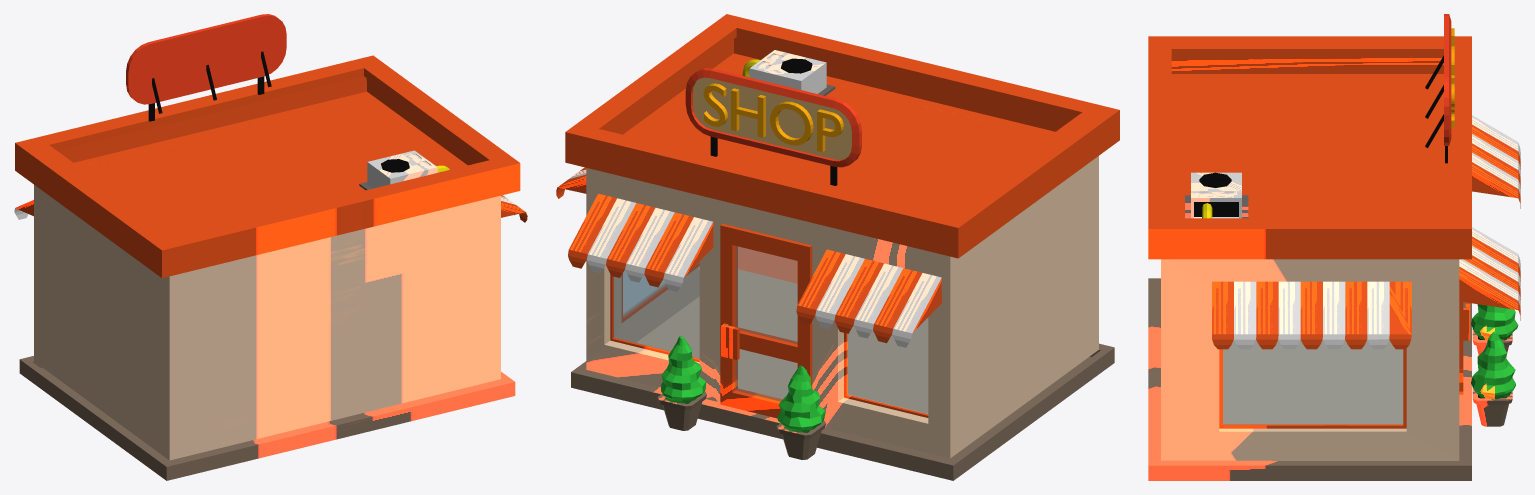
The model's file is shop-general-orange-b_night.glb.
3 views of the same model, side by side, from view 1: azimuth 30°, elevation 25°; view 2: azimuth 150°, elevation 25°; view 3: azimuth 270°, elevation 25° (orthographic). The views are drawn at different scales.
Visible parts, largest first — view 1: casa base, tetto, base, sign_2, cassetta.001, sign_0; view 2: casa base, tetto, tenda frontale piccola, base, porta, vetri porta, vetro sx, vetro dx, sign_1, cespugli, sign_2, sign_letters (+3 smaller); view 3: tetto, casa base, vetro facciata sxx, tenda frontale.001, base, tenda frontale piccola, cespugli, cassetta.001, piante, sign_2, porta, sign_0 (+1 smaller).
Boxes of the visible parts, <box> form: casa base: <box>34,185,500,460</box>; tetto: <box>15,55,520,278</box>; base: <box>19,356,515,480</box>; sign_2: <box>126,14,286,104</box>; cassetta.001: <box>367,150,437,188</box>; sign_0: <box>148,51,271,121</box>; casa base: <box>586,156,1098,458</box>; tetto: <box>565,14,1119,258</box>; tenda frontale piccola: <box>568,193,941,347</box>; base: <box>571,343,1114,480</box>; porta: <box>720,223,812,418</box>; vetri porta: <box>735,246,797,401</box>; vetro sx: <box>613,262,699,358</box>; vetro dx: <box>848,318,928,413</box>; sign_1: <box>693,77,851,159</box>; cespugli: <box>661,336,825,432</box>; sign_2: <box>685,68,861,167</box>; sign_letters: <box>703,83,843,152</box>; tetto: <box>1148,36,1471,259</box>; casa base: <box>1161,259,1459,460</box>; vetro facciata sxx: <box>1223,340,1403,424</box>; tenda frontale.001: <box>1212,281,1411,349</box>; base: <box>1148,278,1471,480</box>; tenda frontale piccola: <box>1459,115,1520,320</box>; cespugli: <box>1471,304,1518,399</box>; cassetta.001: <box>1191,172,1241,218</box>; piante: <box>1472,329,1512,426</box>; sign_2: <box>1444,14,1451,145</box>; porta: <box>1459,301,1470,394</box>; sign_0: <box>1425,55,1447,163</box>.
Size of the model in its own units: 5.89 by 4.42 by 4.37.
16 materials, 4 textured.
